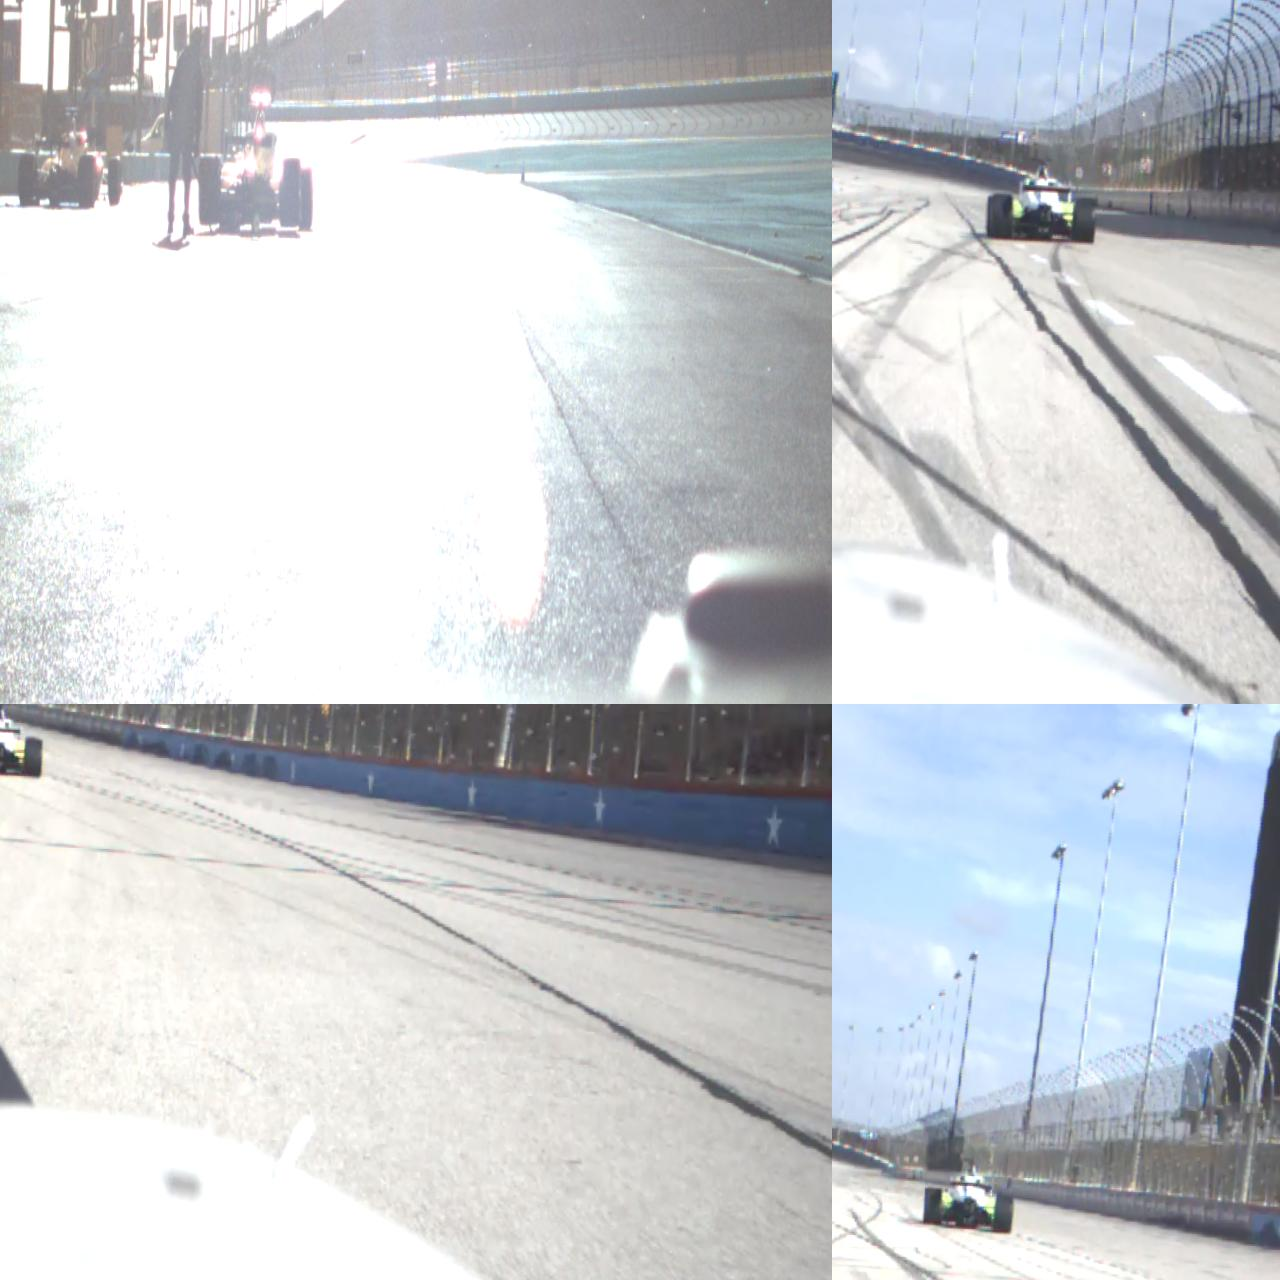AV: (197, 89, 318, 231), (16, 105, 124, 210), (985, 156, 1097, 244), (922, 1155, 1015, 1233), (0, 704, 45, 778)
Wheel: (198, 155, 222, 225), (281, 157, 300, 226), (986, 195, 1013, 239), (76, 155, 97, 209), (297, 168, 314, 230), (1073, 197, 1096, 243), (18, 154, 38, 206), (23, 736, 43, 778), (922, 1186, 942, 1226), (994, 1191, 1013, 1233), (107, 156, 122, 205)
